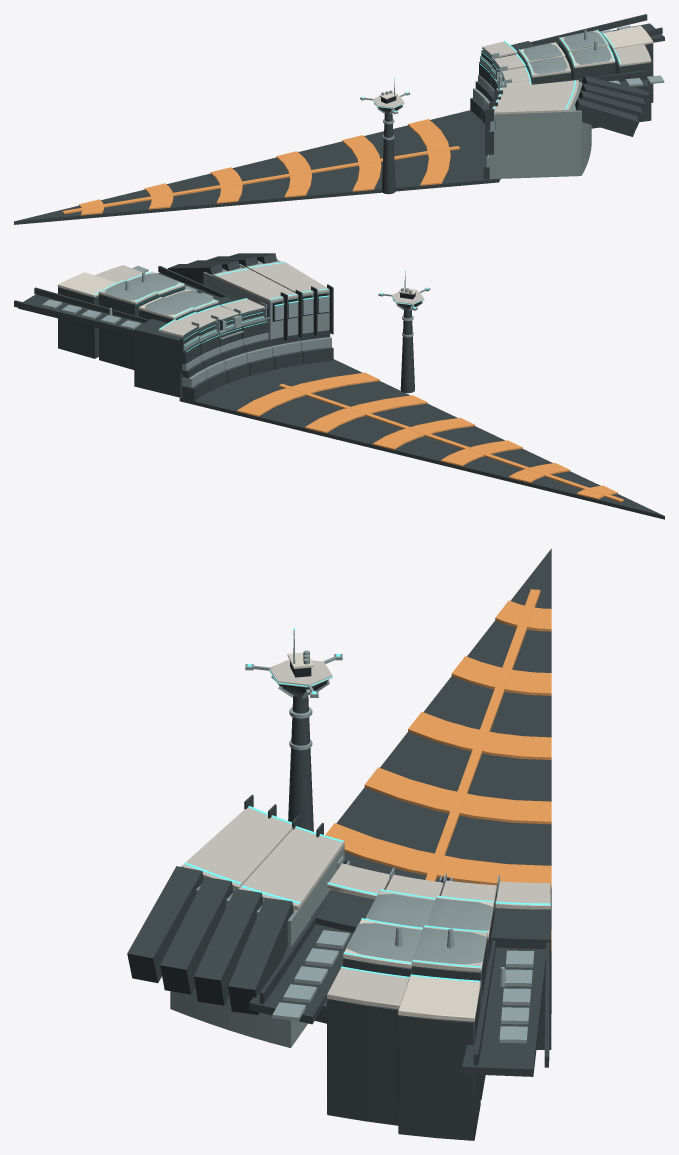
The model's file is Weather_Lung_Sector_11.glb.
3 renders of one model, top to bottom at view 1: azimuth 30°, elevation 25°; view 2: azimuth 150°, elevation 25°; view 3: azimuth 270°, elevation 25°, orthographic. The views are drawn at different scales.
Visible parts, largest first — view 1: Weather_Lung_Sector_11; view 2: Weather_Lung_Sector_11; view 3: Weather_Lung_Sector_11.
Part boxes in pixels (x1=…): Weather_Lung_Sector_11: x1=14, y1=14, x2=664, y2=224; Weather_Lung_Sector_11: x1=14, y1=253, x2=664, y2=519; Weather_Lung_Sector_11: x1=127, y1=548, x2=551, y2=1140.
Bounding box in the file's own units: 13363 × 2379 × 3890.
